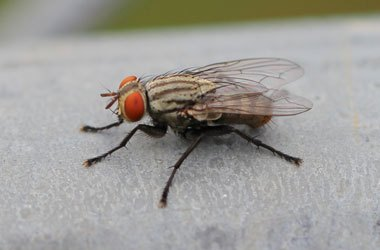house fly: (71, 55, 314, 211)
